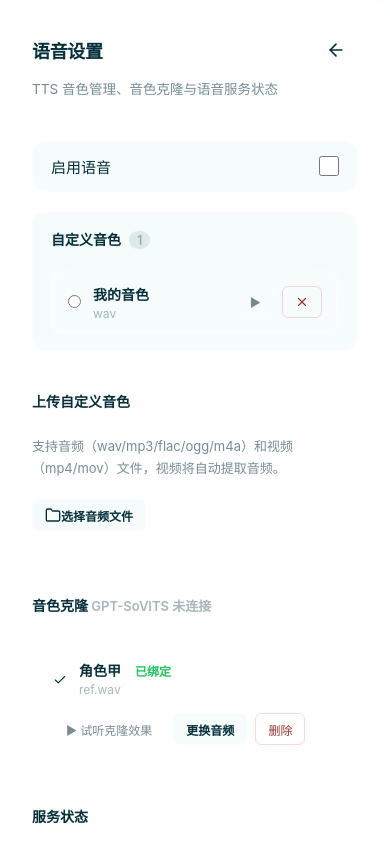
Test: VoicePanel 删除：确认框是唯一落点 › 删除失败：错误显示出来，音色还在列表里
Expected: the list item "我的音色 wav ▶" is shown, [51,271,339,334]
Click the 3rd button at (302, 302), box [282,286,322,318]
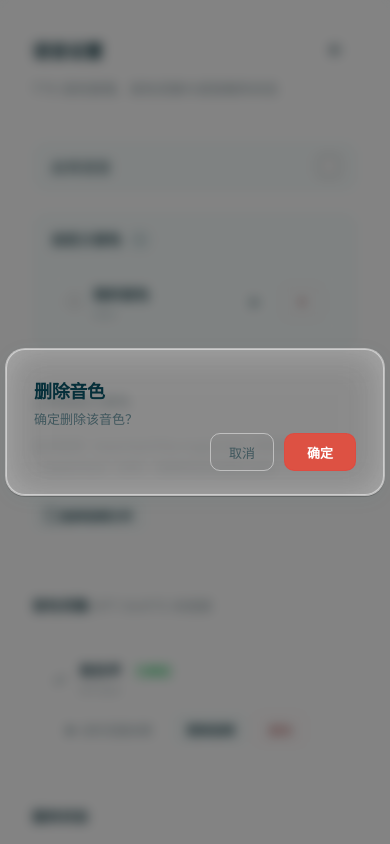
Click the button "确定" at (320, 452), box [284,433,356,471]
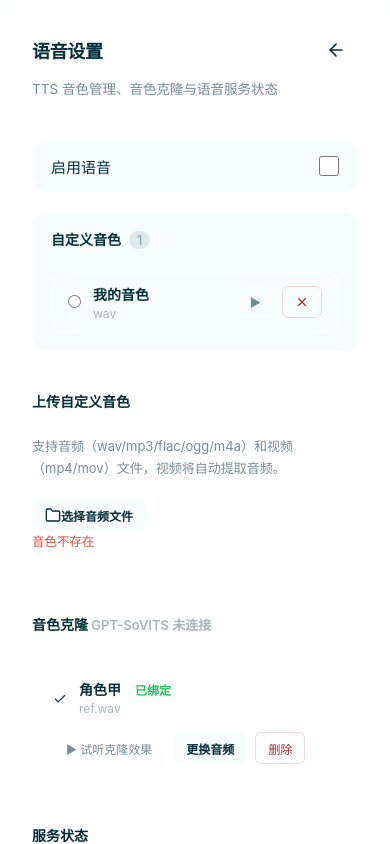
Expected: the list item "我的音色 wav ▶" is shown, [51,271,339,334]
Expected: the text "音色不存在" is shown, [32,534,94,549]
